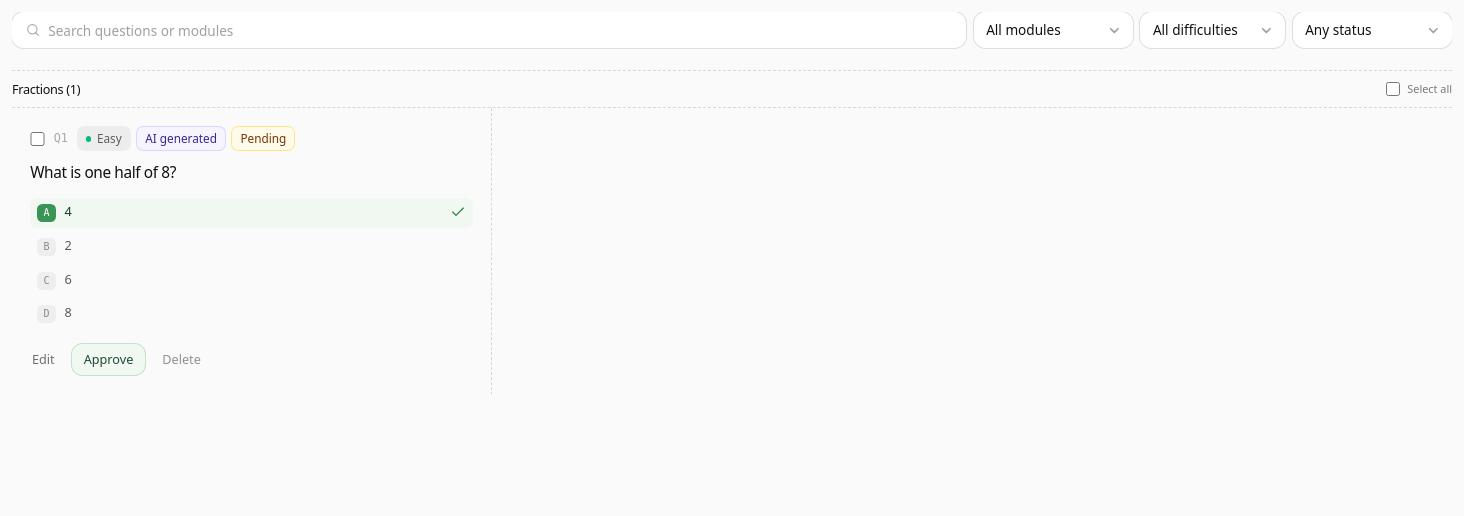
Scenario: QuestionBank › modules › does not move anything without a module name
This screenshot has width=1464, height=516.
Check: the text "What is one half of 8?" is shown, box [30,162,176,183]
Step 1. Click the checkbox named "Select What is one half of 8?" → (37, 139), box [30,132,45,146]
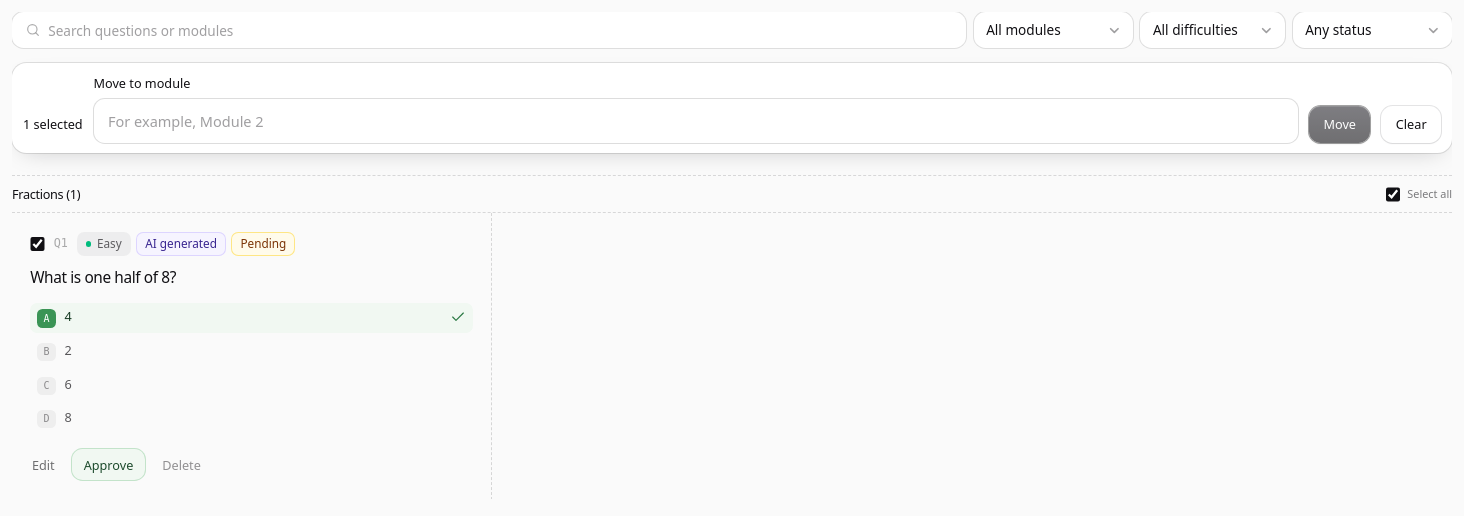
Check: the button "Move" is disabled, box [1309,106,1370,143]
